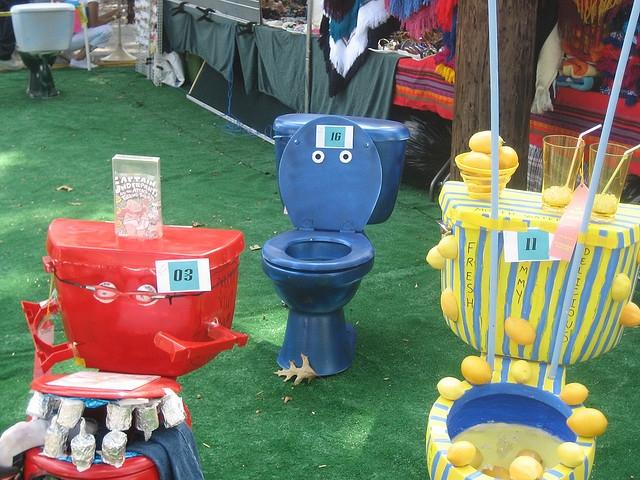lemon: (566, 408, 607, 438), (504, 316, 536, 346), (468, 130, 506, 154), (461, 356, 492, 384), (459, 152, 492, 178), (509, 456, 544, 480), (446, 440, 476, 466), (559, 382, 589, 406), (557, 442, 585, 467), (437, 377, 465, 400), (441, 287, 459, 322), (612, 272, 632, 301), (437, 234, 458, 259), (510, 360, 532, 383), (619, 302, 640, 326), (482, 465, 514, 480), (426, 246, 446, 270), (498, 146, 518, 170), (516, 450, 542, 464)
